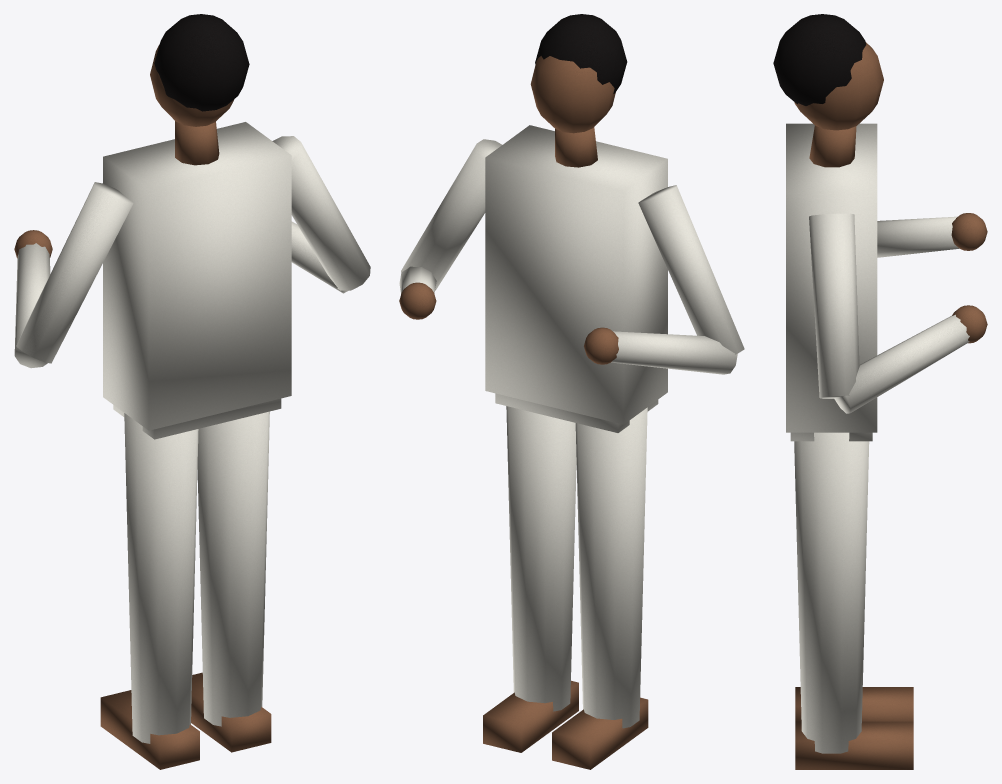
The model's file is musico_tuba.obj.
3 renders of one model, left to right at view 1: azimuth 30°, elevation 25°; view 2: azimuth 150°, elevation 25°; view 3: azimuth 270°, elevation 25°, orthographic. The views are drawn at different scales.
Visible parts, largest first — view 1: musico_tuba; view 2: musico_tuba; view 3: musico_tuba.
Part boxes in pixels (box(x1,y1,x2,y2)): musico_tuba: box(14, 14, 370, 769); musico_tuba: box(399, 14, 744, 769); musico_tuba: box(773, 14, 987, 769).
Bounding box in the file's own units: 0.8779 × 1.76 × 0.47.
3 materials, 3 textured.
